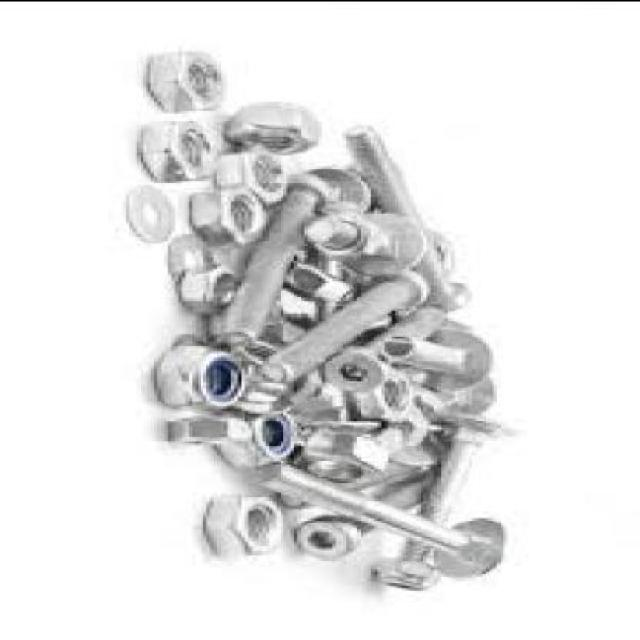METAL: (252, 458, 511, 580), (350, 128, 479, 312), (210, 169, 332, 345), (255, 272, 431, 390), (375, 440, 482, 594), (336, 310, 458, 396), (412, 412, 511, 508), (381, 326, 497, 396), (300, 431, 392, 494), (153, 349, 249, 408), (144, 51, 227, 112), (221, 407, 304, 468), (193, 188, 276, 249), (224, 104, 322, 154), (210, 498, 287, 559), (140, 123, 217, 182), (217, 149, 291, 205), (304, 215, 382, 258), (178, 266, 244, 312), (298, 519, 364, 561), (333, 347, 392, 393), (133, 188, 182, 242), (290, 263, 353, 305), (168, 238, 230, 280), (357, 374, 420, 414), (311, 168, 367, 212), (168, 419, 252, 447), (381, 412, 437, 450)
